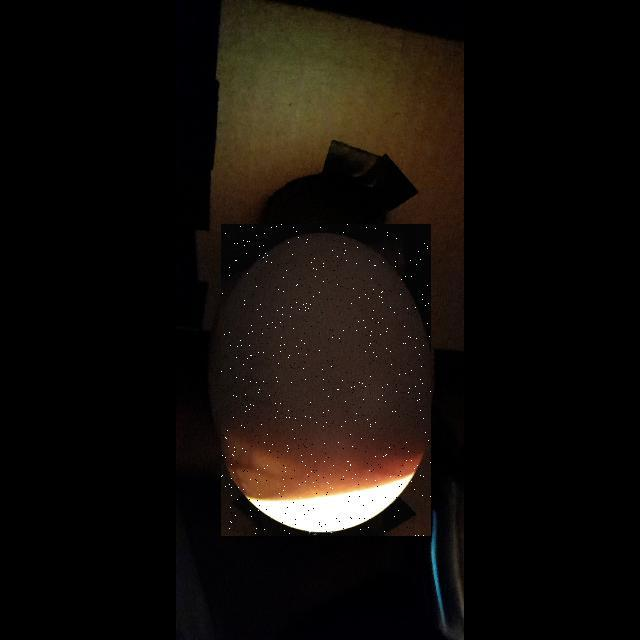Fertile: (221, 224, 431, 536)
